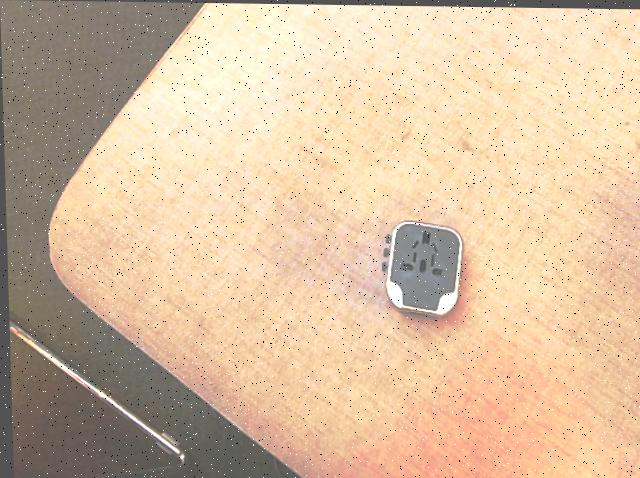adapter: (378, 218, 464, 316)
